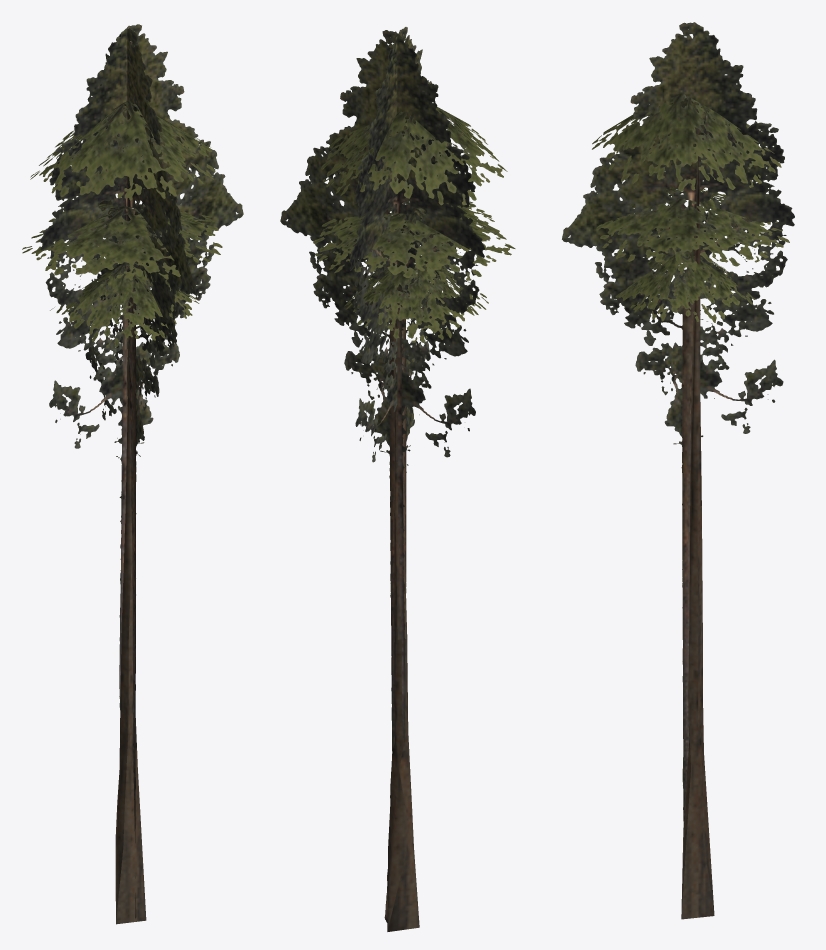
File: borovice_k1.glb
The picture shows the model from 3 angles, left to right: view 1: azimuth 30°, elevation 25°; view 2: azimuth 150°, elevation 25°; view 3: azimuth 270°, elevation 25°; orthographic projection.
Parts seen in each view (by area): view 1: Background_Tree_Atlas.005_Background_Tree_Atlas_0; view 2: Background_Tree_Atlas.005_Background_Tree_Atlas_0; view 3: Background_Tree_Atlas.005_Background_Tree_Atlas_0.
Part boxes in pixels (x1,y1,x2,y2): Background_Tree_Atlas.005_Background_Tree_Atlas_0: [22, 24, 243, 924]; Background_Tree_Atlas.005_Background_Tree_Atlas_0: [280, 27, 515, 931]; Background_Tree_Atlas.005_Background_Tree_Atlas_0: [562, 22, 794, 919].
Bounding box in the file's own units: 5.94 × 22.29 × 5.73.
Materials: 1 (1 with a texture image).
